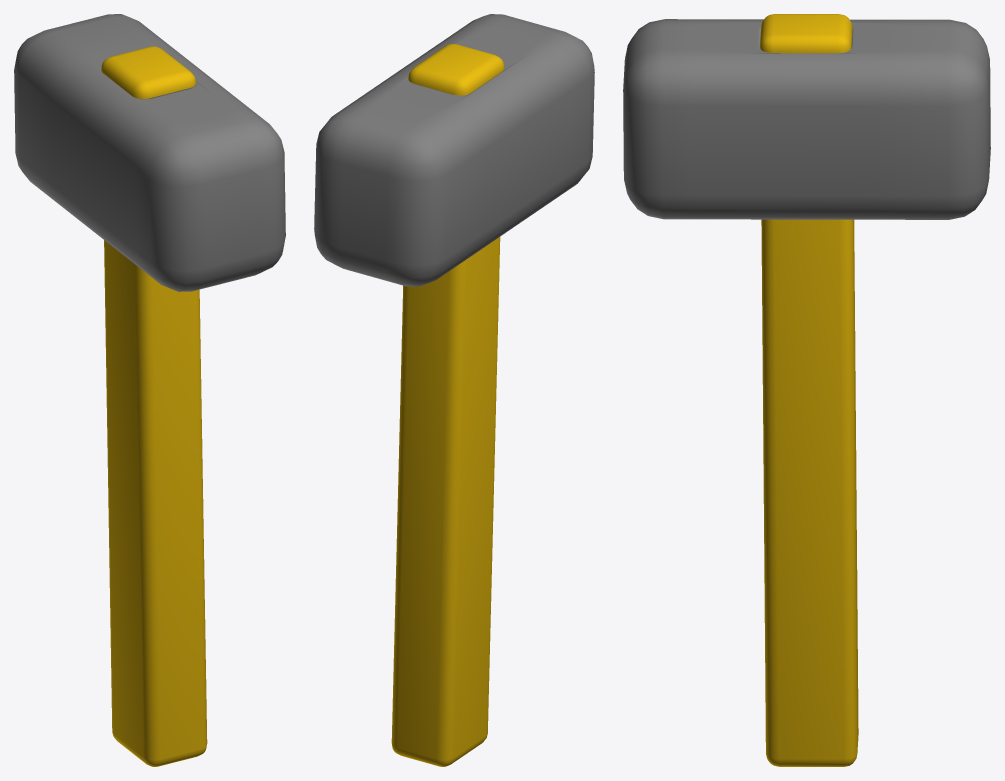
The model's file is hammer.86564cfd.glb.
The picture shows the model from 3 angles, left to right: view 1: azimuth 30°, elevation 25°; view 2: azimuth 150°, elevation 25°; view 3: azimuth 270°, elevation 25°; orthographic projection. The views are drawn at different scales.
Parts seen in each view (by area): view 1: Cube.001; view 2: Cube.001; view 3: Cube.001.
Boxes of the visible parts, bbox=[...] form: Cube.001: bbox=[14, 14, 285, 766]; Cube.001: bbox=[314, 14, 594, 766]; Cube.001: bbox=[623, 14, 990, 766].
Bounding box in the file's own units: 1.24 × 6.01 × 2.76.
